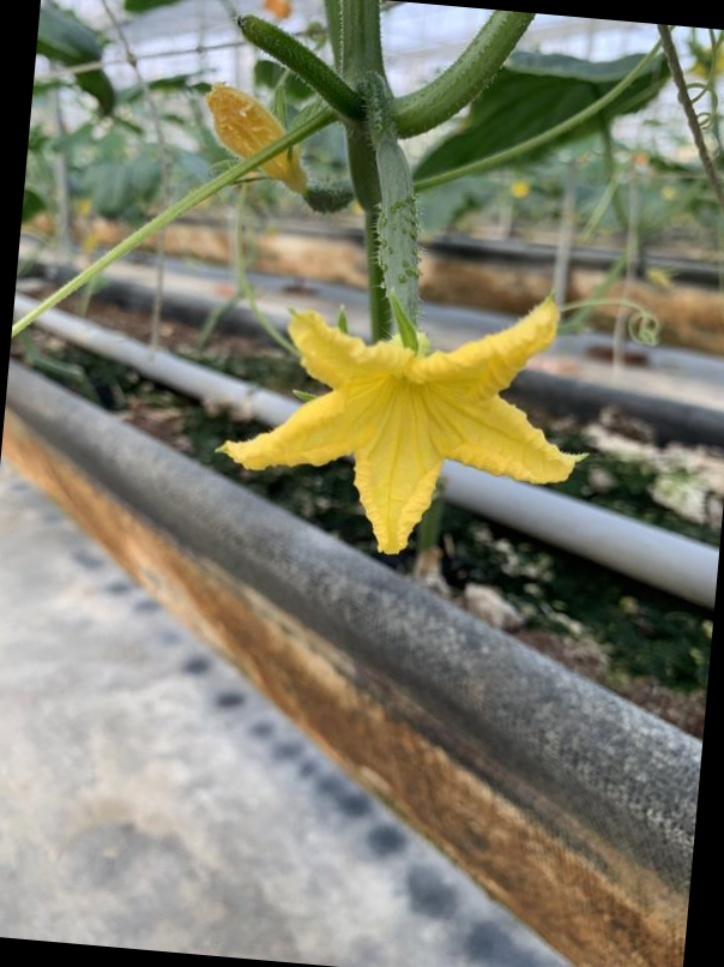flowering: (214, 114, 593, 564)
